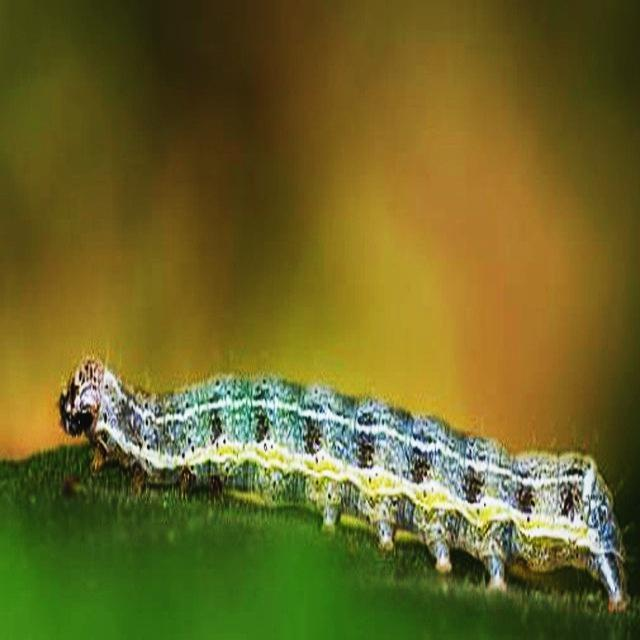gusano_cogollero: (61, 354, 628, 614)
